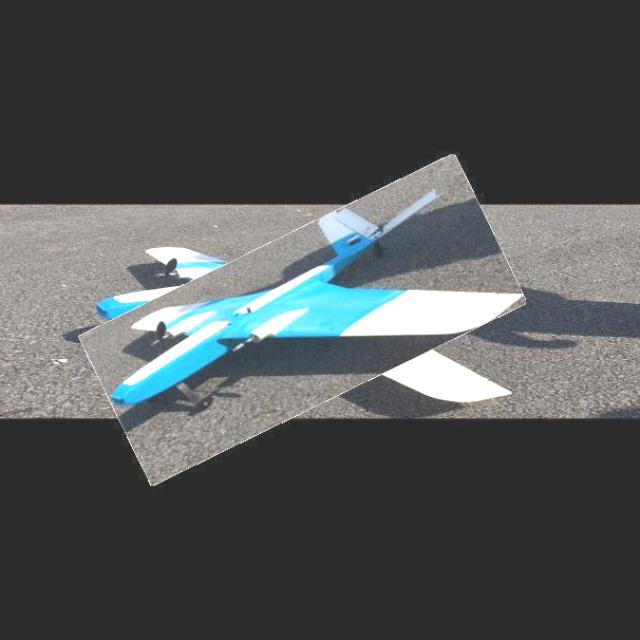plane: (93, 185, 526, 410)
